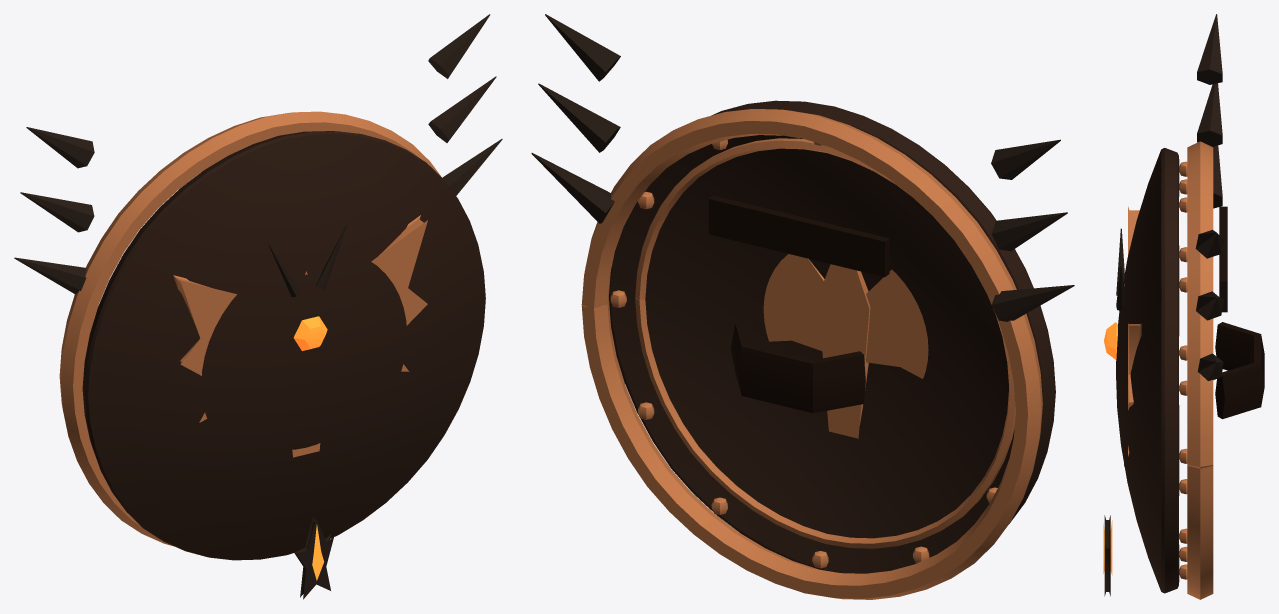
Rendered from asc_elder_wyrm_talon_shield.glb.
3 renders of one model, left to right at view 1: azimuth 30°, elevation 25°; view 2: azimuth 150°, elevation 25°; view 3: azimuth 270°, elevation 25°, orthographic. The views are drawn at different scales.
Parts seen in each view (by area): view 1: asc_elder_wyrm_talon_shield; view 2: asc_elder_wyrm_talon_shield; view 3: asc_elder_wyrm_talon_shield.
Boxes of the visible parts, box(x1,y1,x2,y2) form: asc_elder_wyrm_talon_shield: box(14, 14, 502, 599); asc_elder_wyrm_talon_shield: box(531, 14, 1074, 599); asc_elder_wyrm_talon_shield: box(1103, 14, 1264, 599).
Size of the model in its own units: 0.8008 by 0.7584 by 0.2373.
